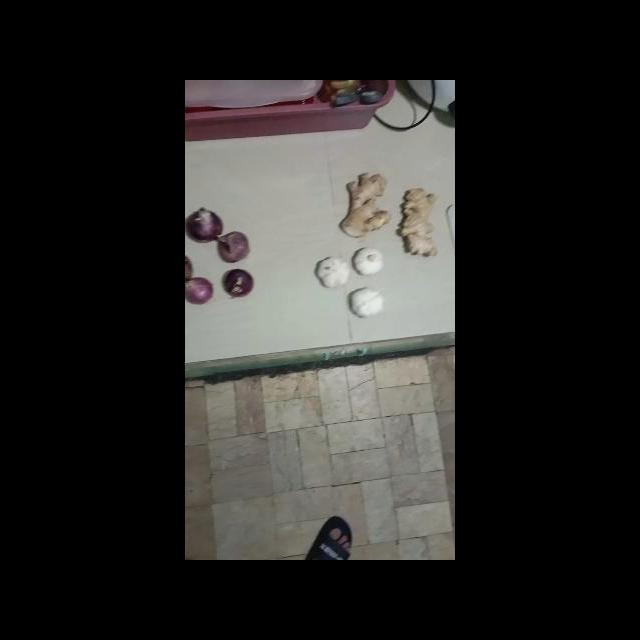garlic: (317, 256, 352, 288), (352, 288, 383, 319), (353, 247, 384, 276)
ginger: (341, 172, 394, 237), (398, 187, 439, 258)
onion: (186, 206, 223, 245), (221, 266, 255, 298), (218, 231, 250, 263), (186, 276, 213, 305)
